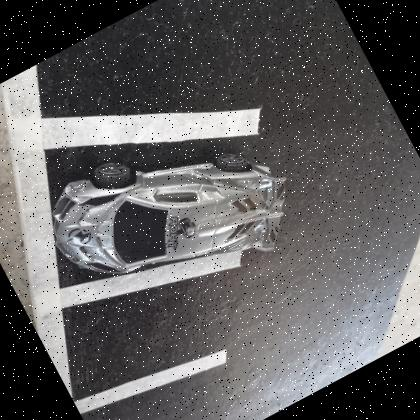Car: (51, 151, 284, 274)
